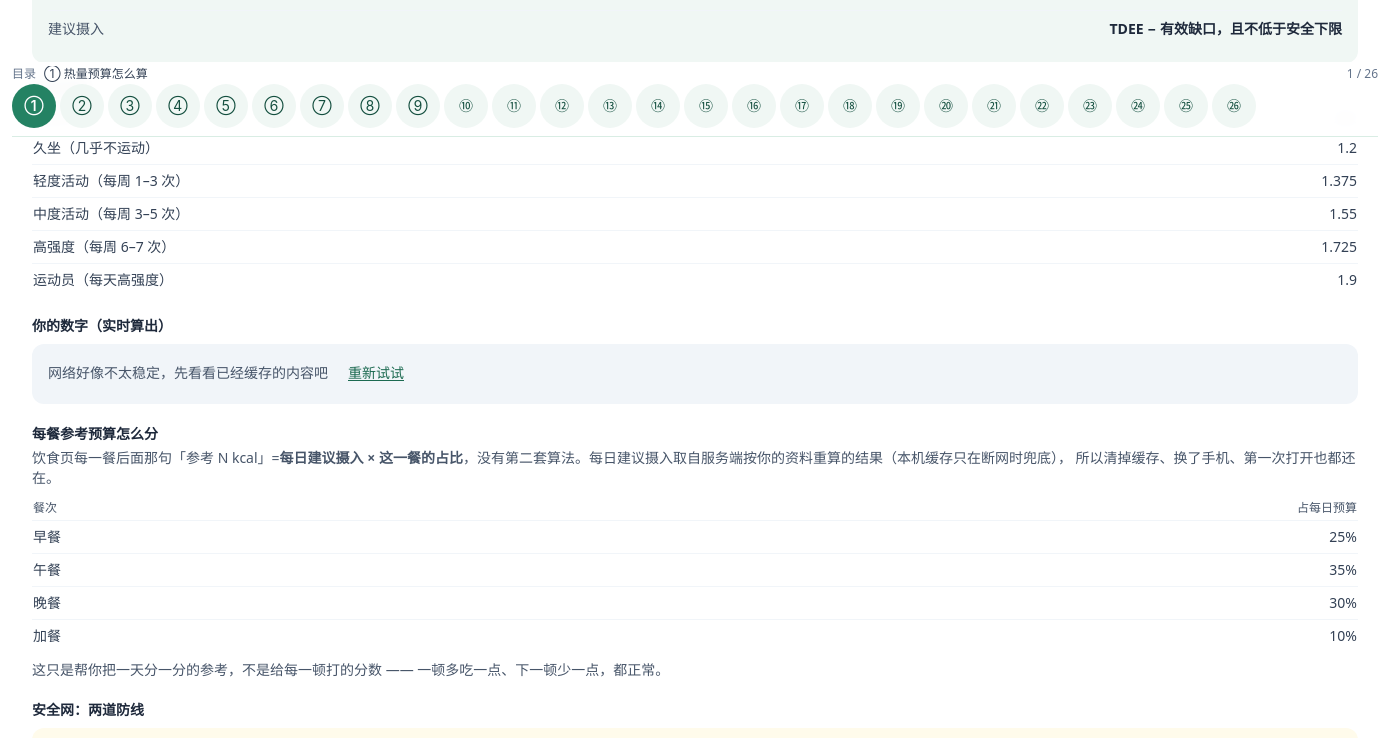
why-numbers 页 · 已登录但请求失败 › ★ 已登录 + 请求失败 → 点「重新试试」成功取回后分解表上屏
(page scrolled)
Expected: the message "网络好像不太稳定，先看看已经缓存的内容吧 重新试试" is shown, [32,344,1358,404]
Click the button with test id "why-numbers-profile-retry".
click(376, 374)  # box [340,352,412,396]
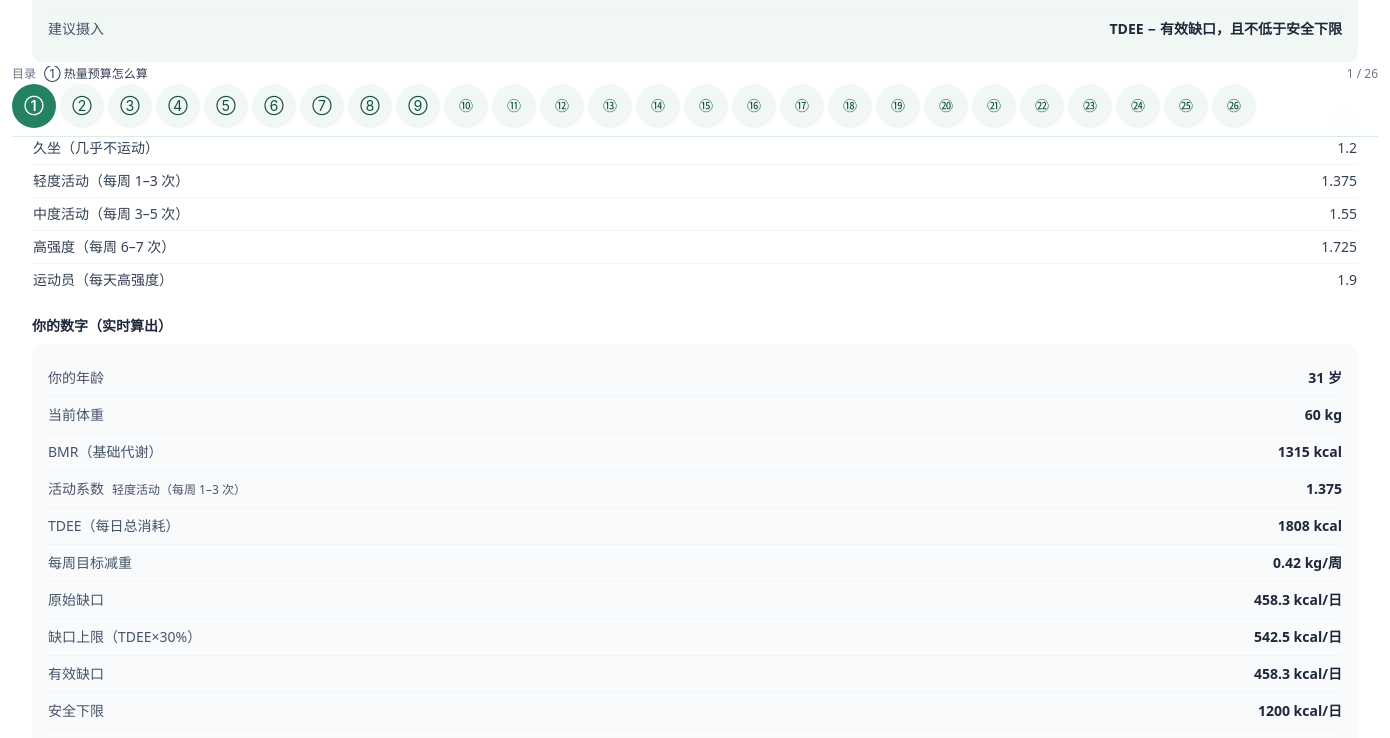
Expected: the text "你的年龄" is shown, [48,368,104,386]
Expected: the message with test id "why-numbers-profile-error" is gone
